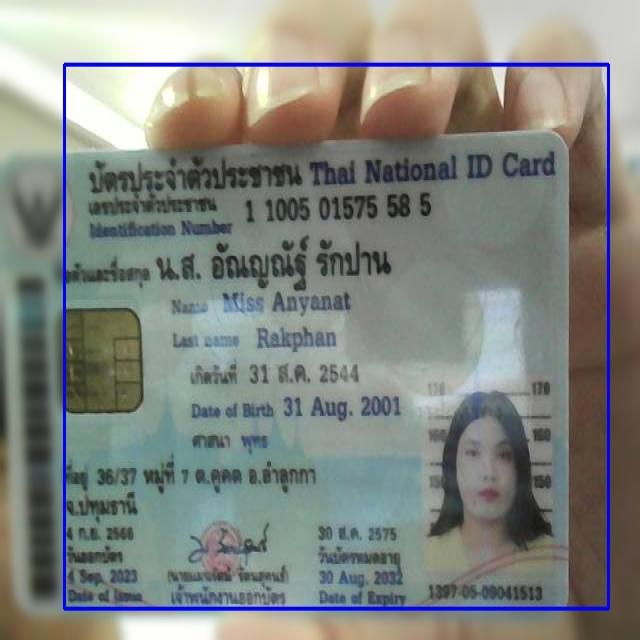Address_th: (62, 452, 322, 528)
Date_of_Birth: (280, 388, 406, 427)
Date_of_Expiry: (312, 566, 413, 591)
Date_of_Issue: (66, 563, 142, 590)
First_Name: (218, 287, 356, 321)
ID_Number: (242, 189, 439, 228)
Image: (422, 372, 554, 580)
Last_Name: (252, 324, 341, 356)
Thai_Name: (152, 235, 399, 291)
